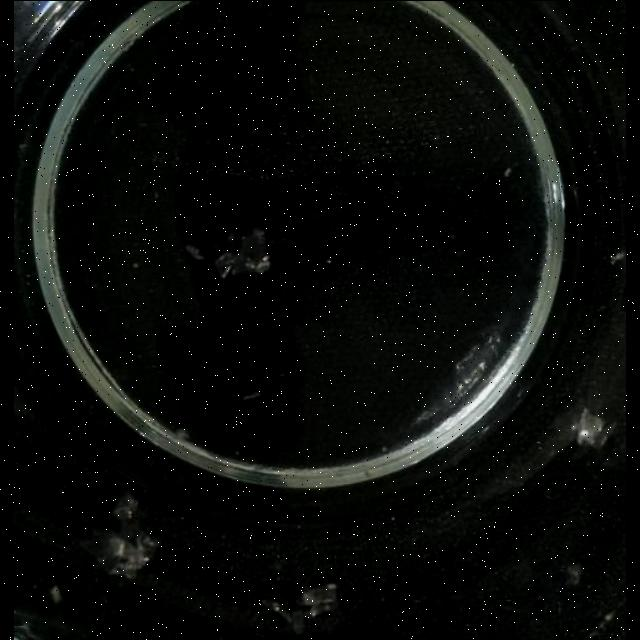Fibre: (532, 399, 622, 469), (86, 496, 162, 578), (269, 584, 339, 636), (214, 226, 272, 278), (564, 562, 584, 584), (184, 243, 203, 259), (171, 426, 189, 440)
microbeads: (48, 584, 62, 602), (609, 250, 625, 264), (242, 390, 262, 400), (603, 610, 615, 622), (503, 166, 513, 176)
